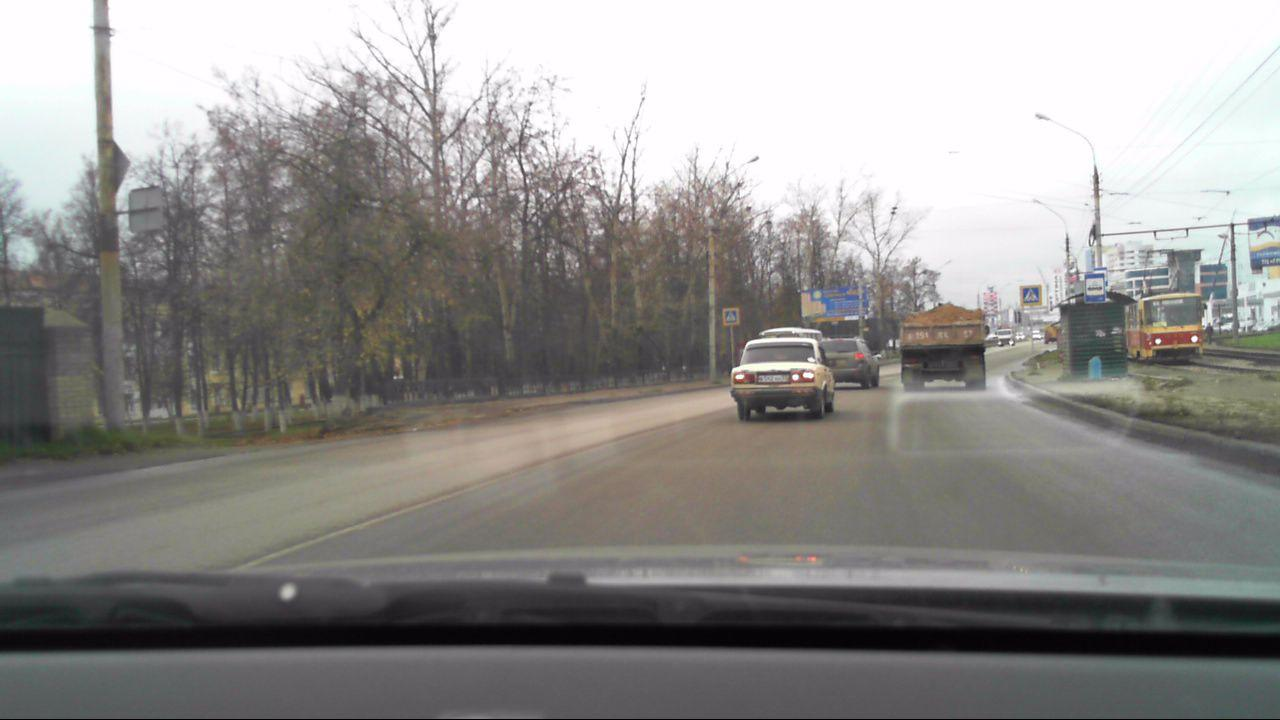5_17: (1085, 273, 1105, 302)
5_19_1: (1021, 287, 1038, 304)
5_19_2: (722, 308, 739, 324)
